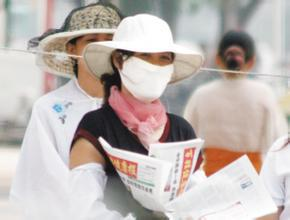NONE: (78, 33, 123, 76)
OK: (126, 49, 175, 98)
